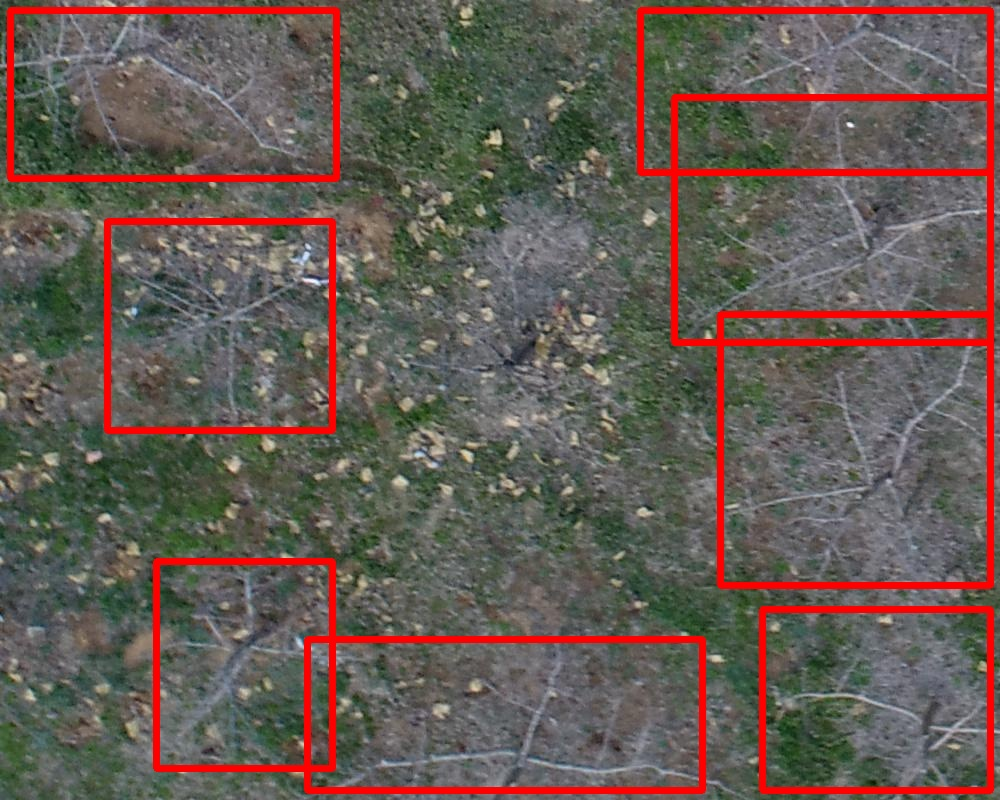apple: (674, 97, 990, 342), (720, 314, 990, 585), (307, 639, 702, 790), (640, 10, 990, 172), (10, 10, 336, 178), (107, 221, 332, 430), (762, 609, 990, 790), (156, 561, 332, 768)
